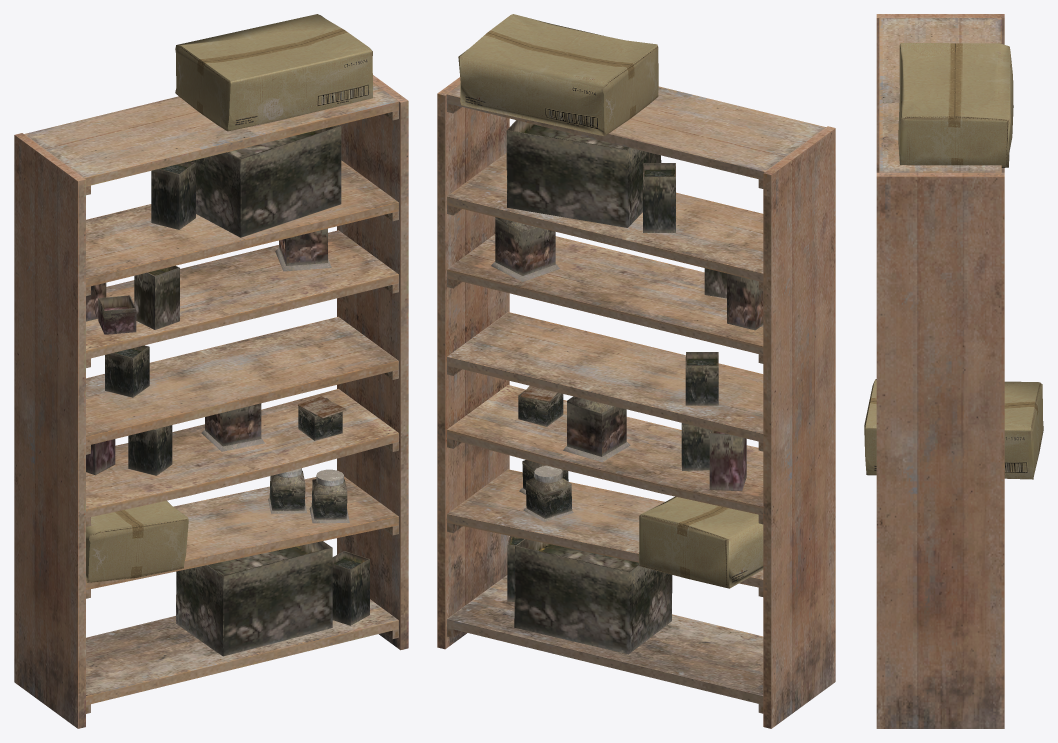
File: sm39_062_woodshelfset02a.fbx
3 renders of one model, left to right at view 1: azimuth 30°, elevation 25°; view 2: azimuth 150°, elevation 25°; view 3: azimuth 270°, elevation 25°, orthographic.
Visible parts, largest first — view 1: LOD_1_Group_0_Sub_1__sm30_106_WoodShelf01G_B_Mat, LOD_1_Group_0_Sub_2__sm32_063_CreepyVessel01A_A_Mat, LOD_1_Group_0_Sub_3__sm36_004_Cardboard03A_A_Mat; view 2: LOD_1_Group_0_Sub_1__sm30_106_WoodShelf01G_B_Mat, LOD_1_Group_0_Sub_2__sm32_063_CreepyVessel01A_A_Mat, LOD_1_Group_0_Sub_3__sm36_004_Cardboard03A_A_Mat; view 3: LOD_1_Group_0_Sub_1__sm30_106_WoodShelf01G_B_Mat, LOD_1_Group_0_Sub_3__sm36_004_Cardboard03A_A_Mat.
Boxes of the visible parts, <box> form: LOD_1_Group_0_Sub_1__sm30_106_WoodShelf01G_B_Mat: <box>14,75,408,728</box>; LOD_1_Group_0_Sub_2__sm32_063_CreepyVessel01A_A_Mat: <box>86,125,369,656</box>; LOD_1_Group_0_Sub_3__sm36_004_Cardboard03A_A_Mat: <box>86,14,372,582</box>; LOD_1_Group_0_Sub_1__sm30_106_WoodShelf01G_B_Mat: <box>437,77,835,728</box>; LOD_1_Group_0_Sub_2__sm32_063_CreepyVessel01A_A_Mat: <box>491,120,763,654</box>; LOD_1_Group_0_Sub_3__sm36_004_Cardboard03A_A_Mat: <box>458,14,763,588</box>; LOD_1_Group_0_Sub_1__sm30_106_WoodShelf01G_B_Mat: <box>876,14,1004,728</box>; LOD_1_Group_0_Sub_3__sm36_004_Cardboard03A_A_Mat: <box>864,43,1043,479</box>.
Size of the model in its own units: 1.2 by 2.08 by 0.5596.
